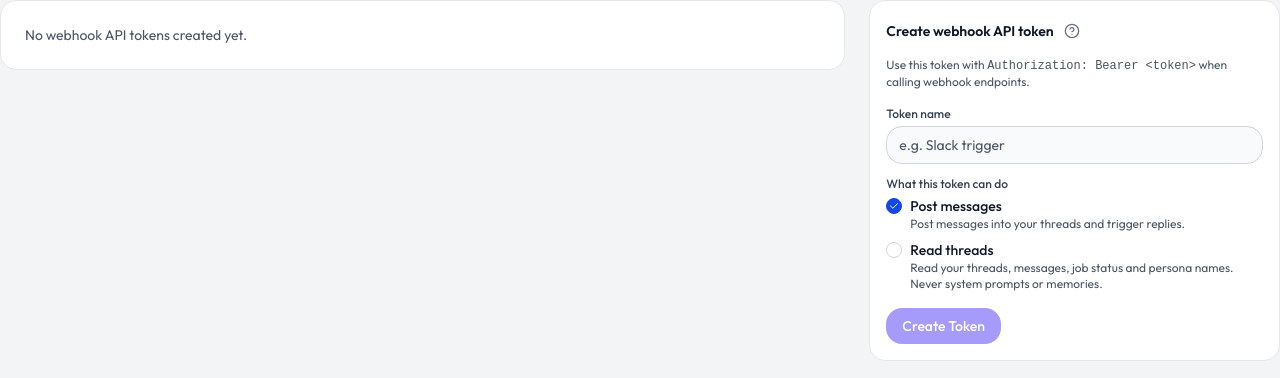
Test: IntegrationsWebhooksTabComponent › links the token help hint to the webhooks guide
Click the button named "What is a webhook token?" at (1072, 31), box [1058,17,1086,45]
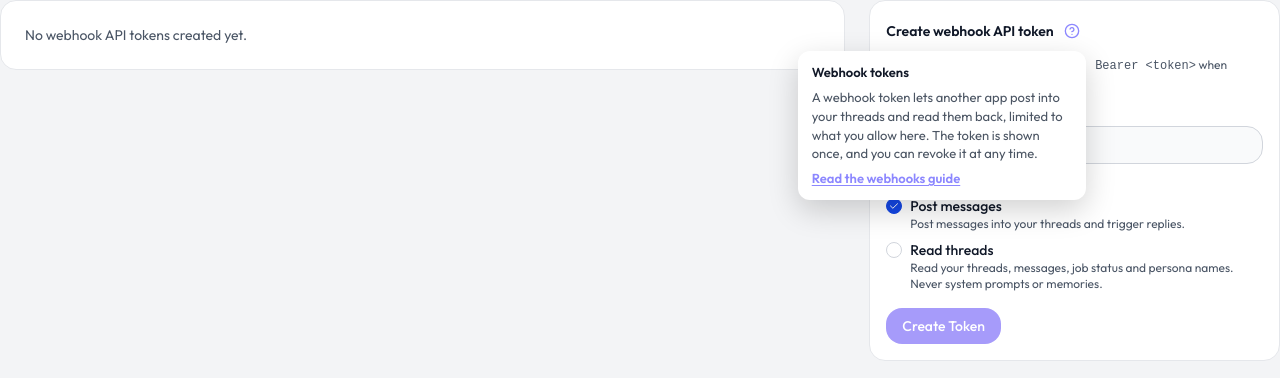
Expected: the link with class "ui-help-hint__link" reads "Read the webhooks guide", [812,169,960,188]
